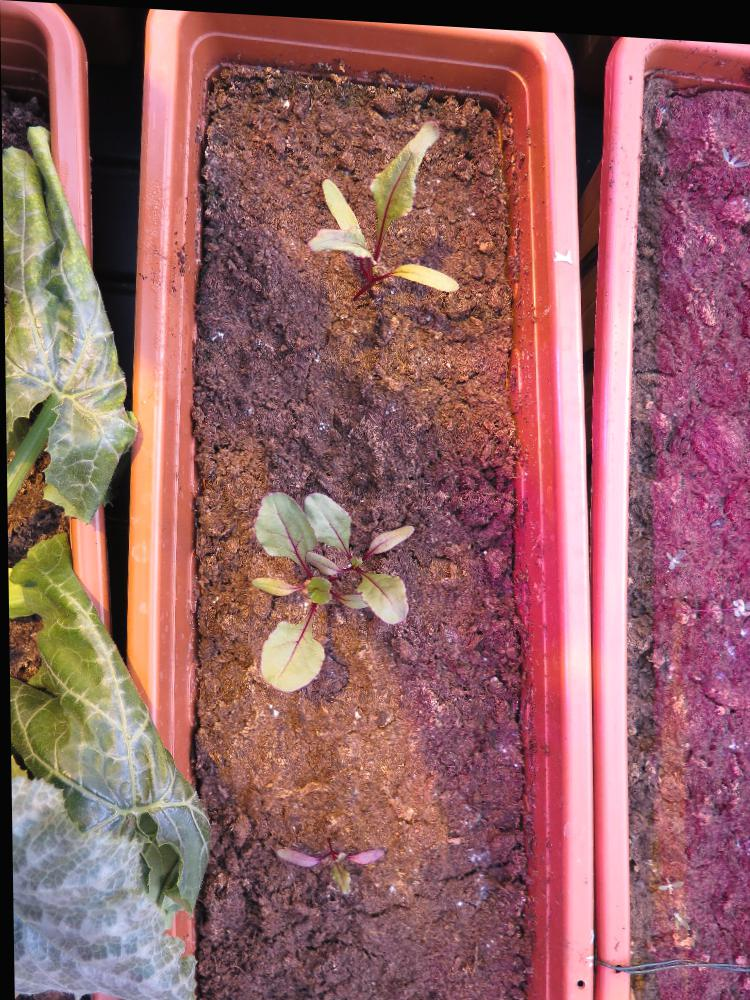weed: (720, 133, 748, 160), (653, 862, 681, 887), (662, 536, 685, 565), (669, 900, 687, 927)
